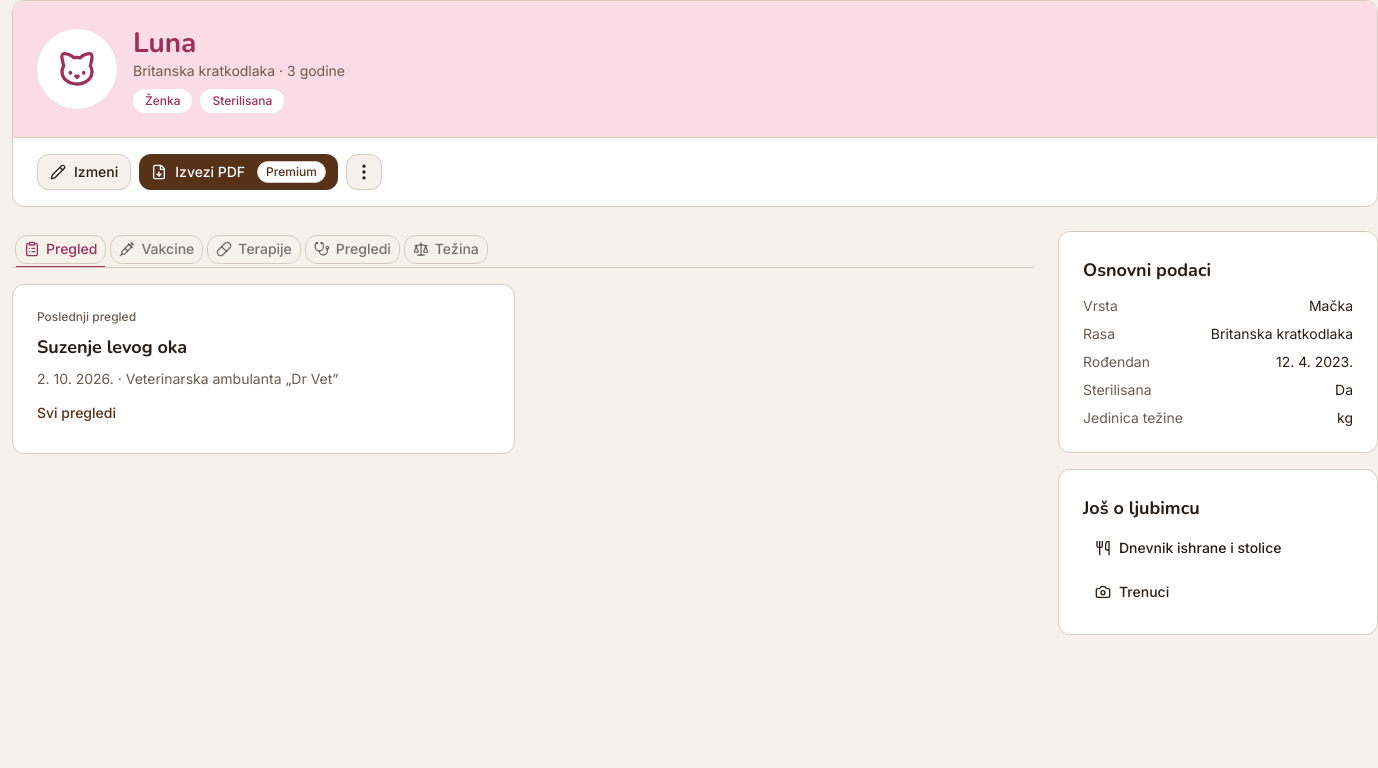
Test: S03 Terapije — the list (FR-06) › empty: 'Još nema terapija' with the add link for the owner
This screenshot has width=1378, height=768.
Click the tab "Terapije".
click(254, 249)  # box [207,234,301,264]
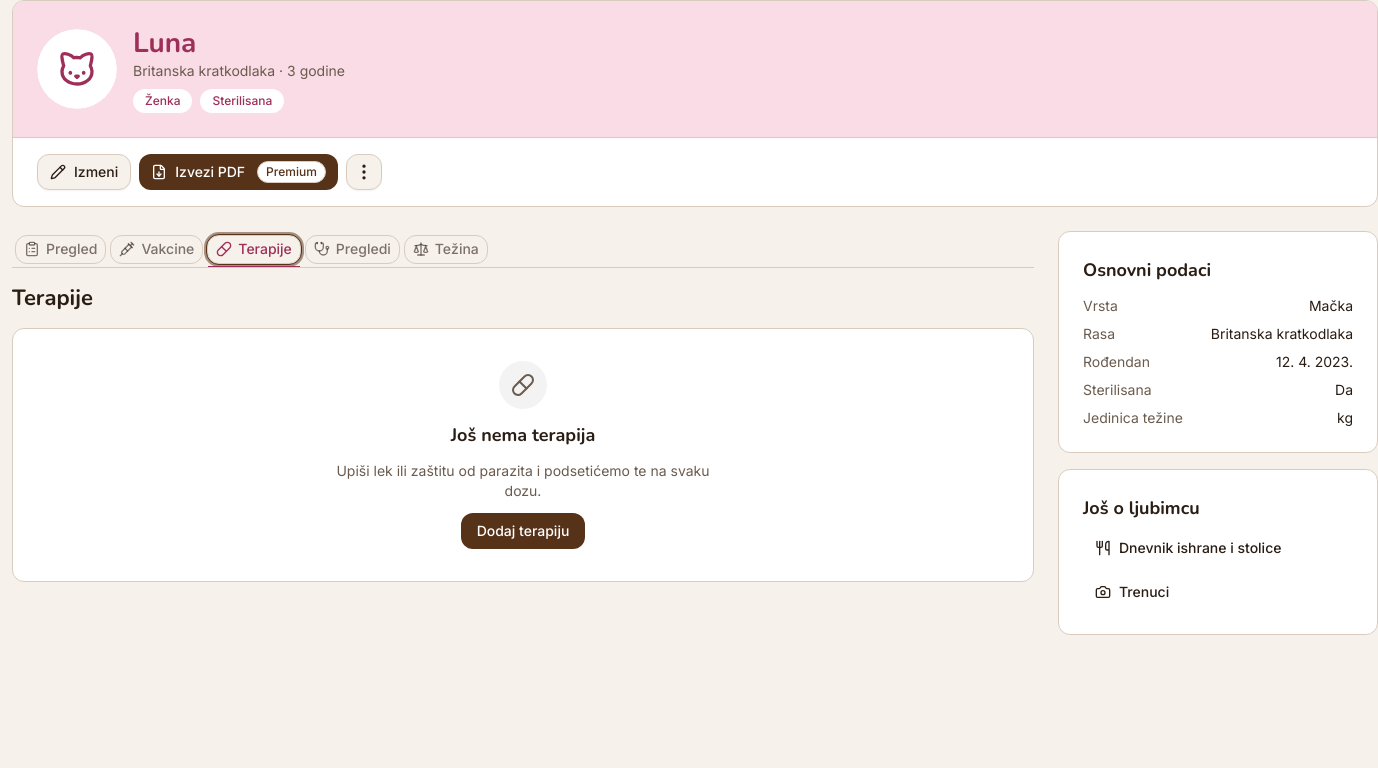
Now the heading "Još nema terapija" is shown, box [451,421,595,449]
Now the text "Upiši lek ili zaštitu od parazita i podsetićemo te na svaku dozu." is shown, box [331,461,715,501]
